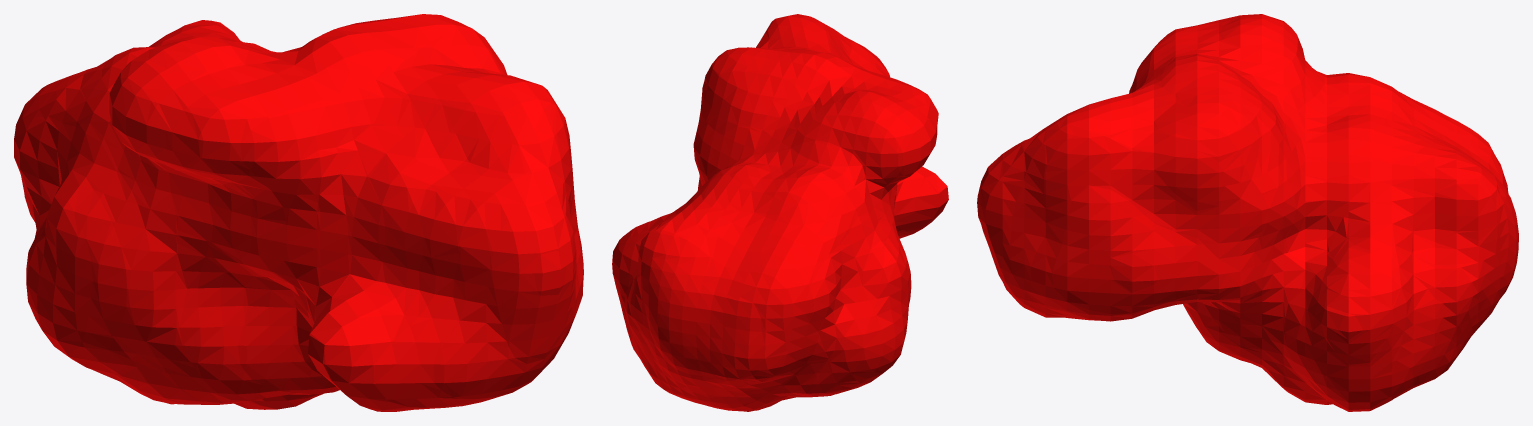
The model's file is garR_coarse.dae.
3 views of the same model, side by side, from view 1: azimuth 30°, elevation 25°; view 2: azimuth 150°, elevation 25°; view 3: azimuth 270°, elevation 25° (orthographic). The views are drawn at different scales.
Visible parts, largest first — view 1: garR; view 2: garR; view 3: garR.
Boxes of the visible parts, x1,y1,x2,y2 form: garR: [14, 14, 583, 411]; garR: [612, 14, 948, 411]; garR: [977, 14, 1518, 411].
Bounding box in the file's own units: 44.85 × 47.08 × 68.31.
